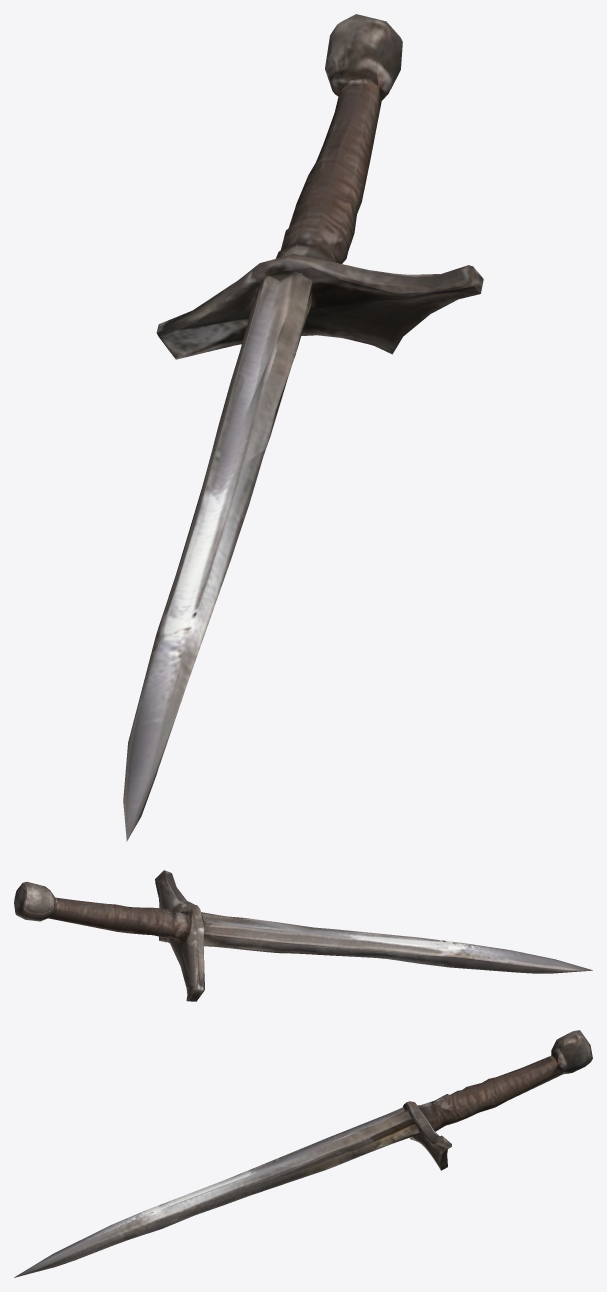
3 renders of one model, top to bottom at view 1: azimuth 30°, elevation 25°; view 2: azimuth 150°, elevation 25°; view 3: azimuth 330°, elevation 25°, orthographic. The views are drawn at different scales.
Parts seen in each view (by area): view 1: geometry_0; view 2: geometry_0; view 3: geometry_0.
Boxes of the visible parts, x1=… form: geometry_0: x1=123, y1=14, x2=483, y2=841; geometry_0: x1=14, y1=870, x2=592, y2=1001; geometry_0: x1=14, y1=1030, x2=592, y2=1277.
Bounding box in the file's own units: 0.9499 × 0.4238 × 1.06.
1 material, 1 textured.
